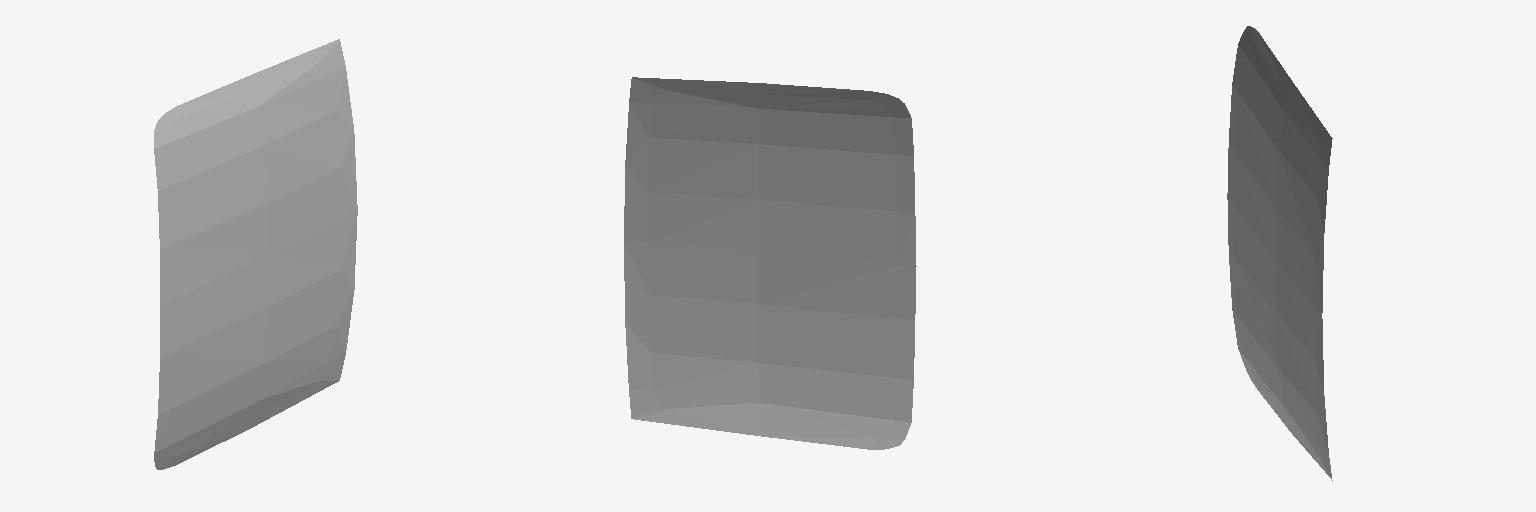
The model's file is windshield_rear.obj.
The picture shows the model from 3 angles: view 1: azimuth 30°, elevation 25°; view 2: azimuth 150°, elevation 25°; view 3: azimuth 270°, elevation 25°; orthographic projection.
Visible parts, largest first — view 1: car.009; view 2: car.009; view 3: car.009.
Part boxes in pixels (x1,y1,x2,y2): car.009: (154, 39, 357, 469); car.009: (624, 77, 916, 449); car.009: (1227, 26, 1332, 480).
Bounding box in the file's own units: 3.1 × 4.33 × 1.15.